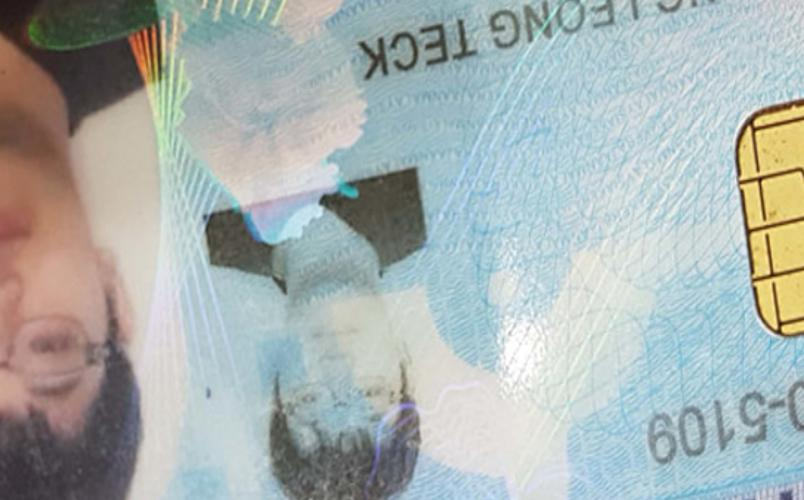hologramB: (176, 1, 358, 176)
